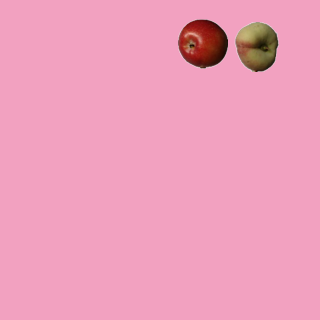Apple Braeburn: (177, 18, 227, 68)
Peach Flat: (231, 21, 281, 71)
